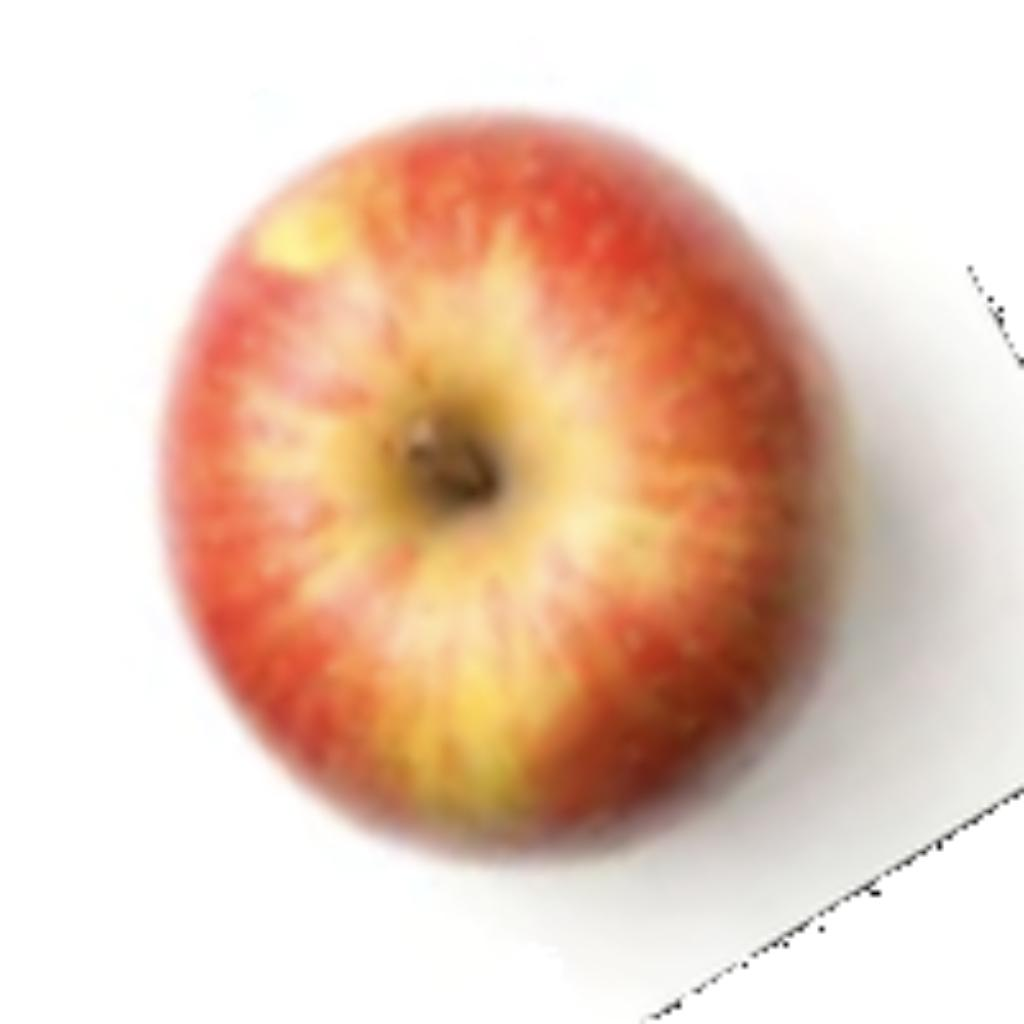apple: (143, 97, 998, 922)
